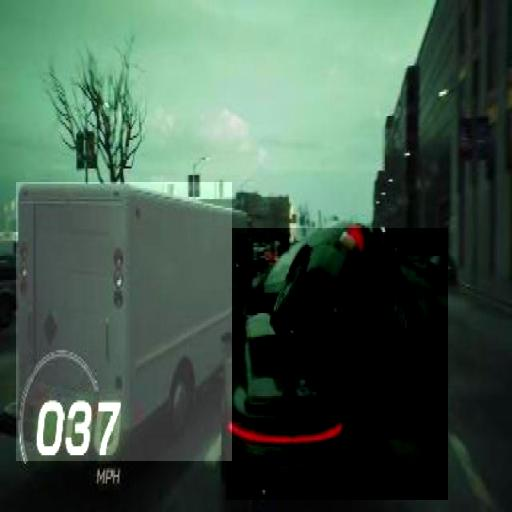小汽车: (16, 182, 232, 461)
小汽车撞小汽车: (226, 228, 448, 500)
